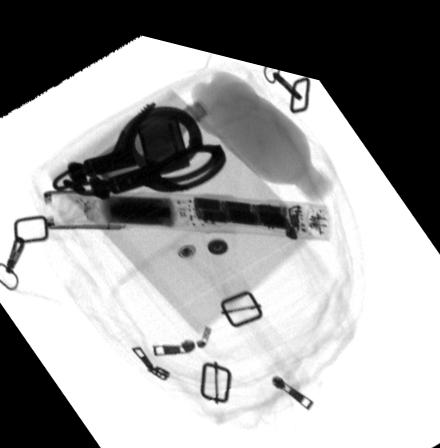Baton: (57, 187, 330, 224)
HandCuffs: (50, 93, 226, 196)
Lighter: (133, 99, 189, 166)
